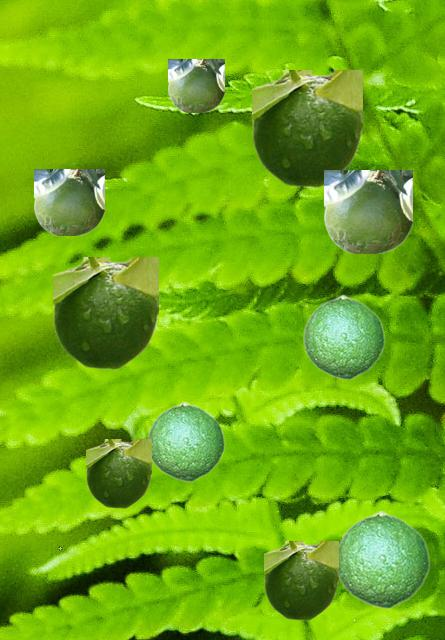dalandan: (252, 70, 361, 186), (53, 257, 157, 368), (338, 510, 429, 608), (324, 170, 411, 252), (302, 294, 384, 379), (147, 401, 224, 481), (264, 541, 337, 619), (34, 169, 103, 234), (86, 439, 150, 507), (168, 59, 223, 111)
